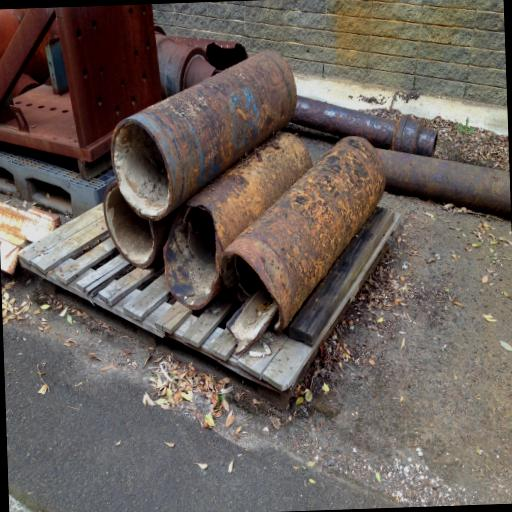corrosion: (85, 20, 317, 230), (213, 126, 420, 329), (166, 109, 320, 274), (0, 76, 121, 168), (289, 93, 439, 158), (154, 199, 227, 313), (0, 201, 62, 245)
